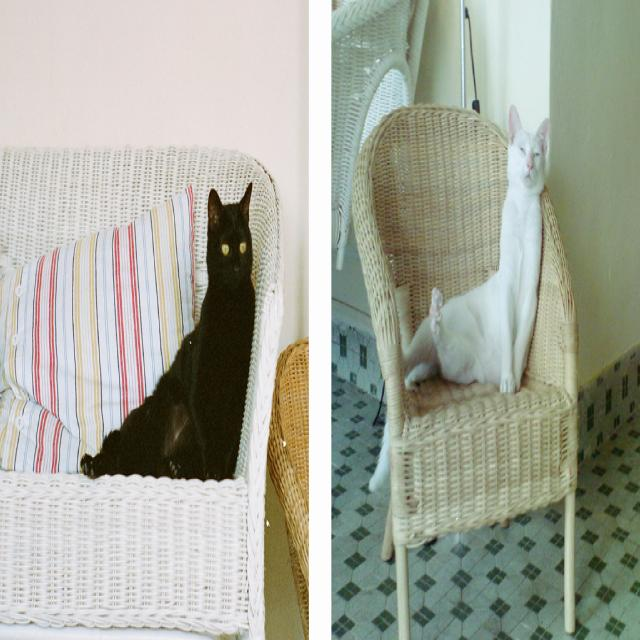Cat: (366, 100, 546, 493), (80, 180, 257, 482)
